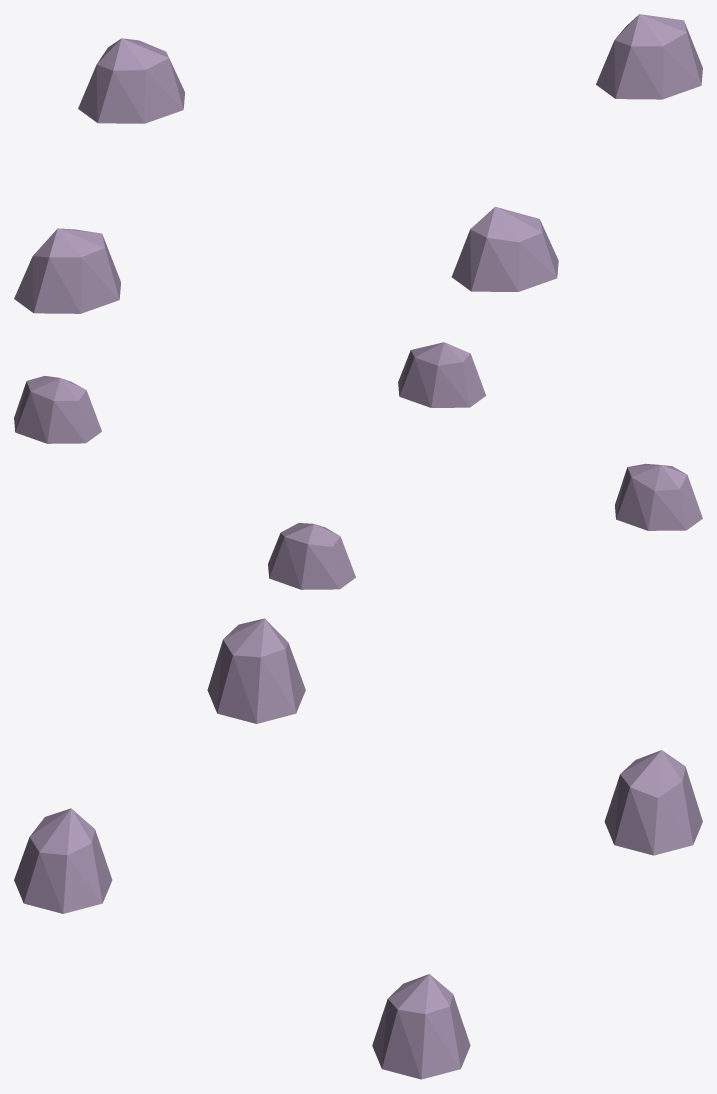
The picture shows the model from 3 angles, top to bottom: view 1: azimuth 30°, elevation 25°; view 2: azimuth 150°, elevation 25°; view 3: azimuth 270°, elevation 25°; orthographic projection. The views are drawn at different scales.
Parts seen in each view (by area): view 1: 水潭_岸石.001; view 2: 水潭_岸石.001; view 3: 水潭_岸石.001.
Part boxes in pixels (<box>): 水潭_岸石.001: <box>14,14,702,313</box>; 水潭_岸石.001: <box>14,342,702,589</box>; 水潭_岸石.001: <box>14,618,702,1079</box>.
Size of the model in its own units: 1.91 by 0.16 by 1.36.
